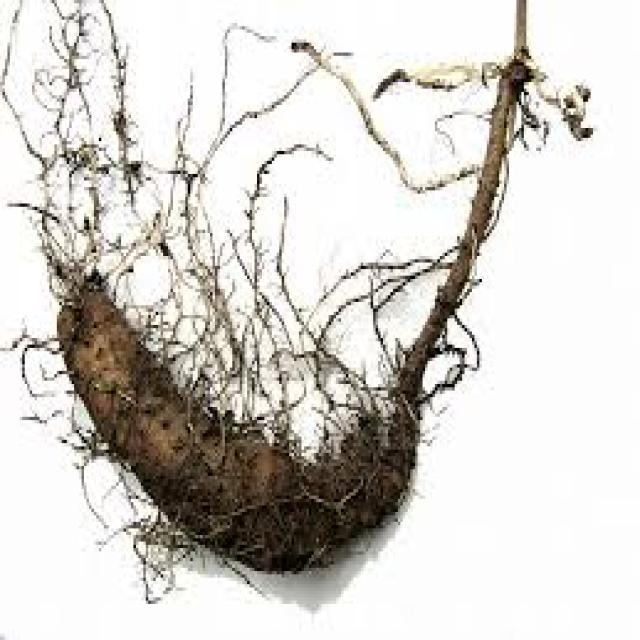Yam: (26, 109, 521, 640)
